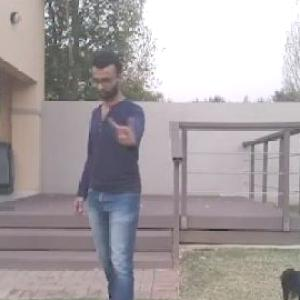takeoff-hand: (109, 110, 139, 147)
